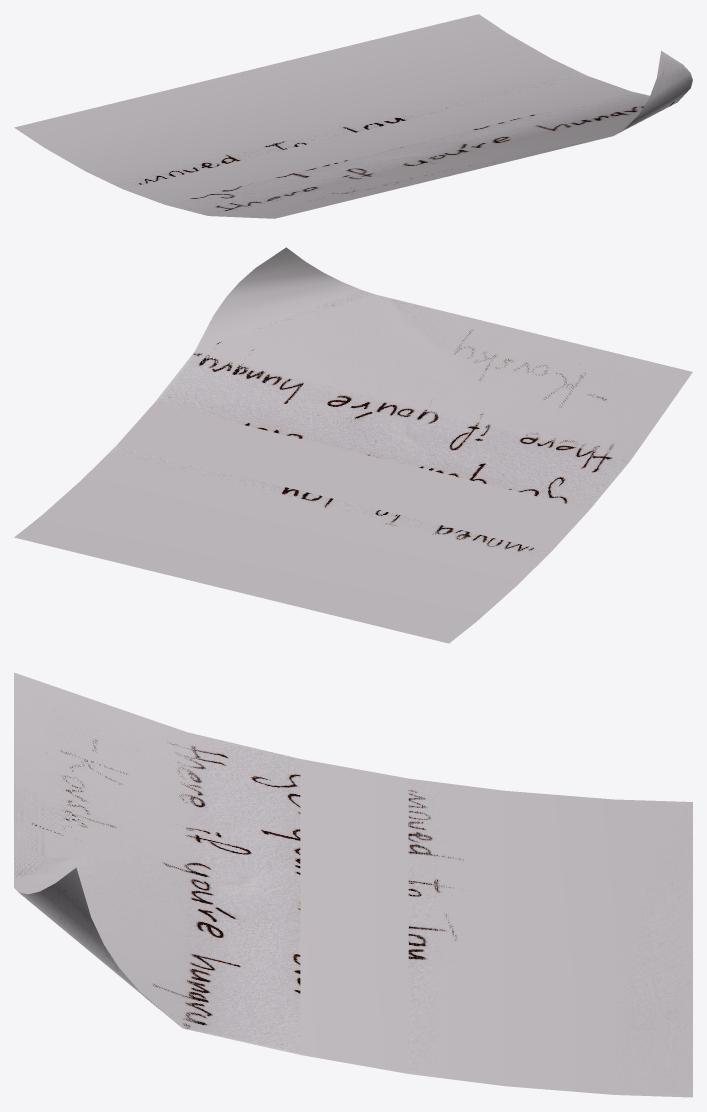
Rendered from note_phi_kovostky.dae.
3 renders of one model, top to bottom at view 1: azimuth 30°, elevation 25°; view 2: azimuth 150°, elevation 25°; view 3: azimuth 270°, elevation 25°, orthographic. The views are drawn at different scales.
Parts seen in each view (by area): view 1: Mesh; view 2: Mesh; view 3: Mesh.
Part boxes in pixels (x1,y1,x2,y2): Mesh: (14, 14, 692, 218); Mesh: (14, 247, 692, 643); Mesh: (14, 672, 692, 1097).
Bounding box in the file's own units: 0.1572 × 0.0482 × 0.1517.
